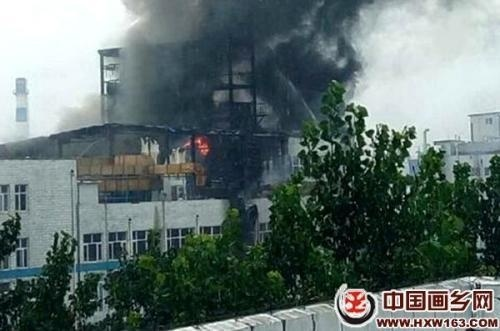fire: (194, 135, 211, 154)
